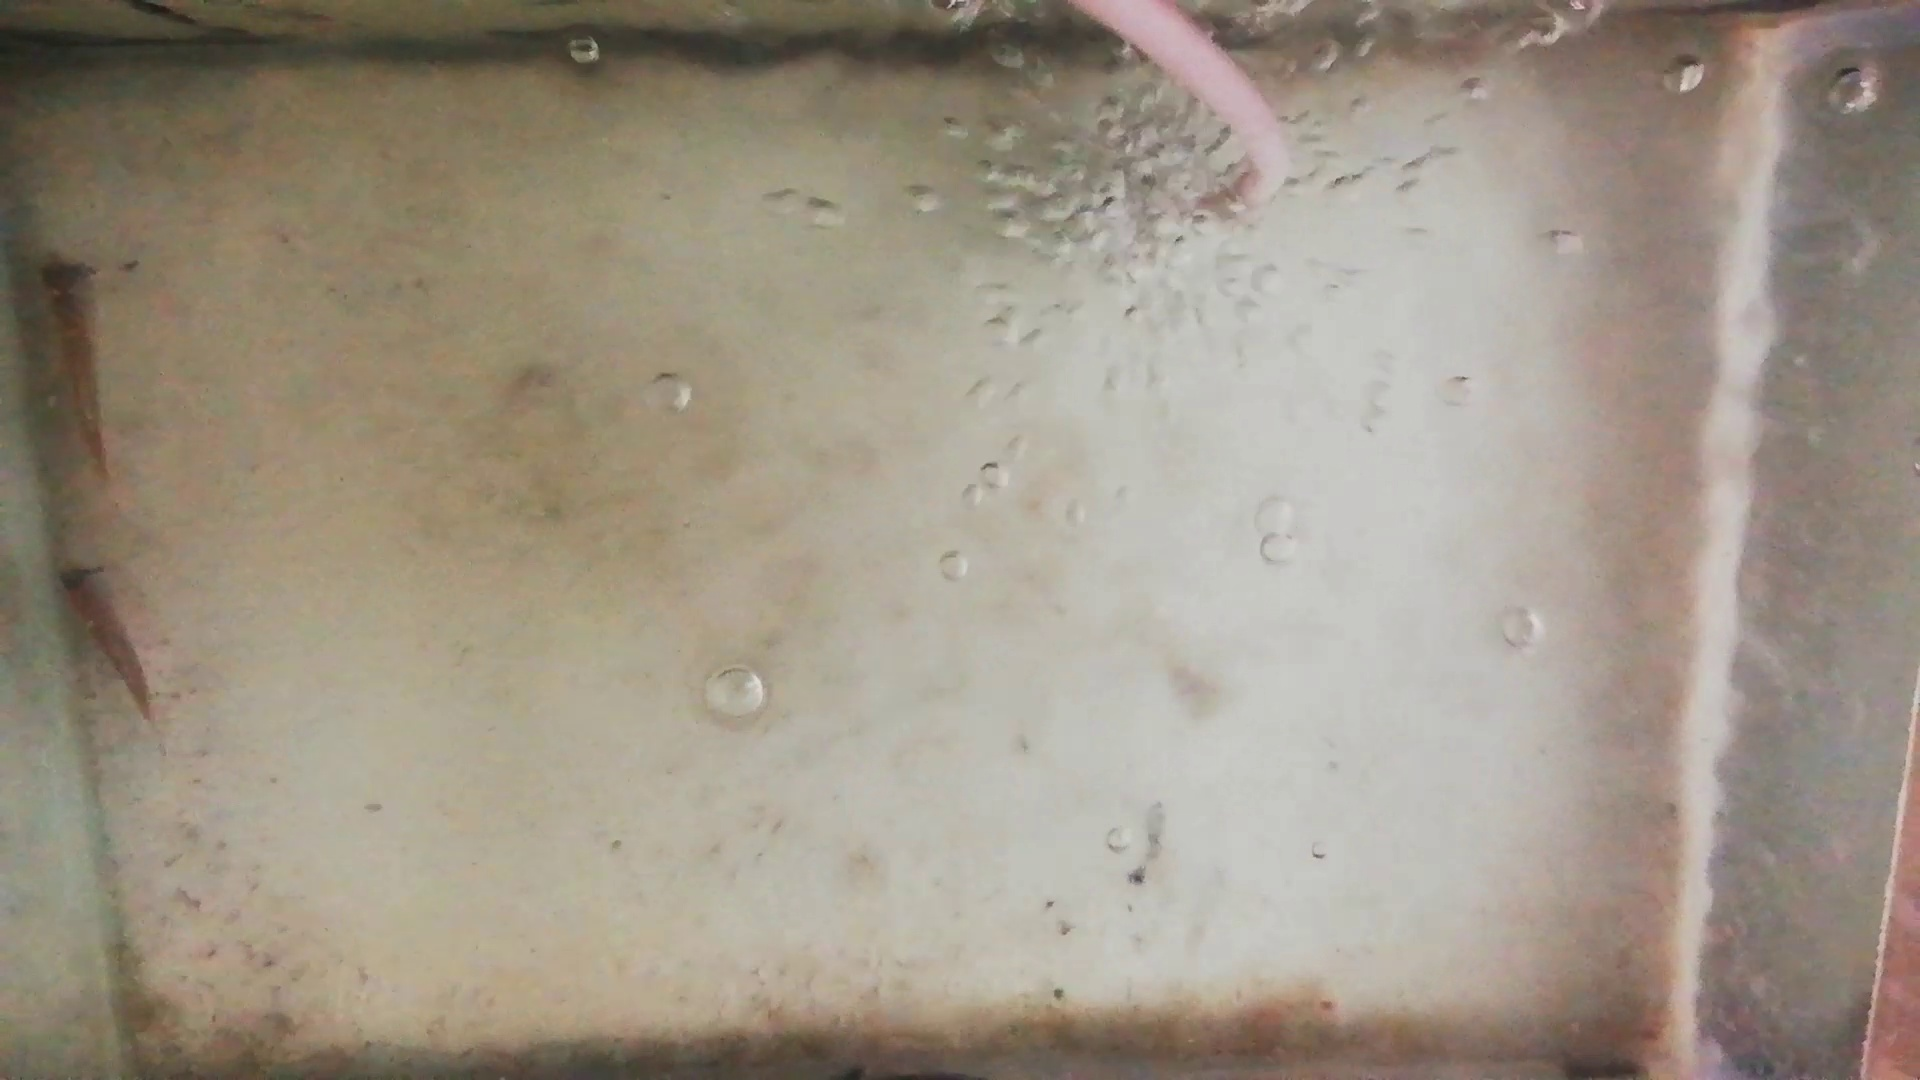fish: (42, 248, 116, 483), (57, 568, 156, 731)
